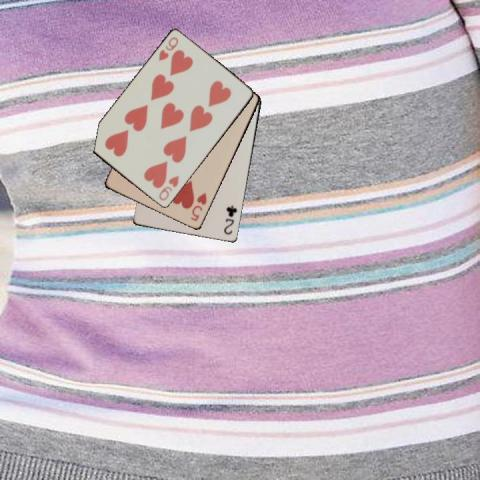2c: (221, 203, 239, 236)
5h: (187, 190, 209, 223)
9h: (155, 172, 181, 202), (155, 34, 180, 63)
